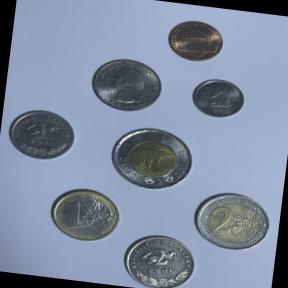coin: (106, 122, 198, 196), (189, 188, 278, 256), (83, 53, 170, 118), (44, 182, 126, 247), (116, 229, 201, 288), (163, 15, 230, 66), (185, 74, 250, 124)
